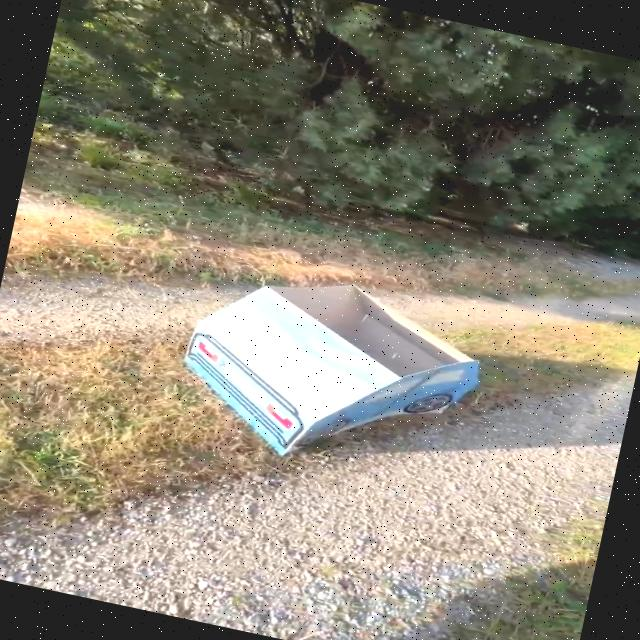blue_car: (108, 213, 531, 522)
